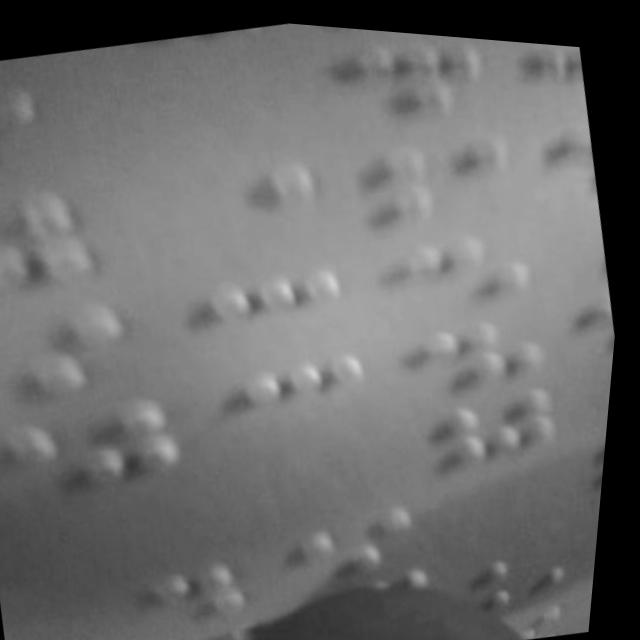braiile: (6, 380, 199, 510), (362, 112, 527, 227), (0, 289, 147, 417), (333, 22, 504, 130), (388, 207, 545, 318), (212, 254, 364, 367), (234, 339, 386, 452), (179, 147, 332, 253), (409, 293, 564, 395), (431, 367, 578, 470)
